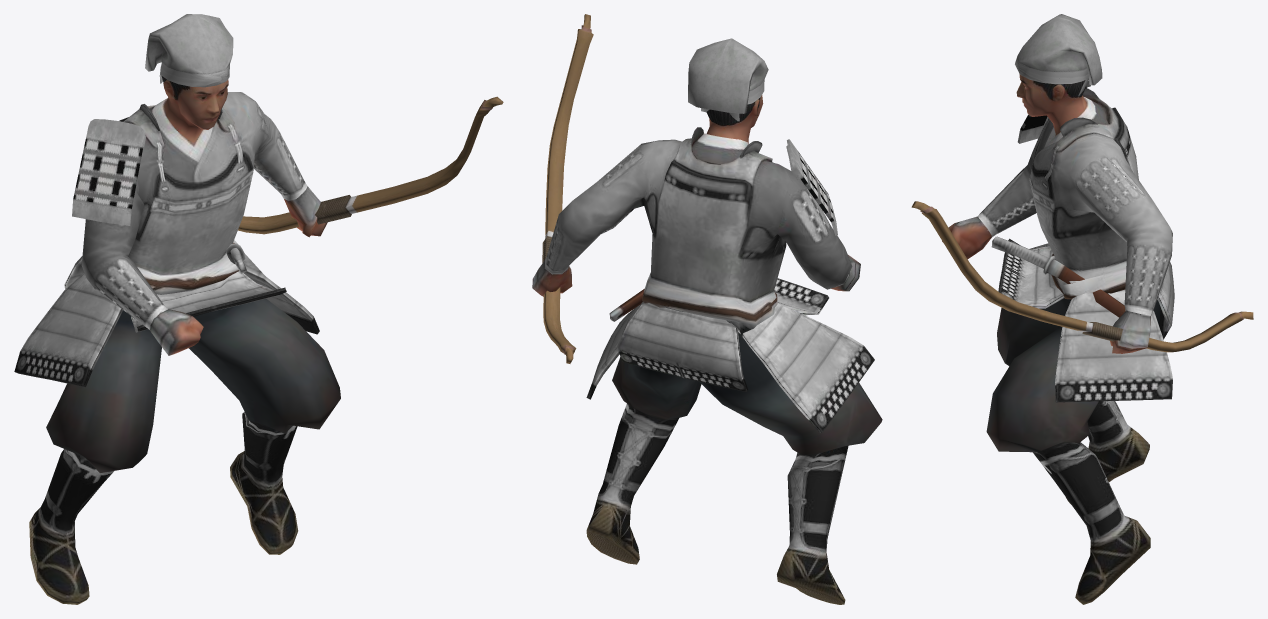
The model's file is rider-heavystablesoldiers.glb.
The picture shows the model from 3 angles, left to right: view 1: azimuth 30°, elevation 25°; view 2: azimuth 150°, elevation 25°; view 3: azimuth 270°, elevation 25°; orthographic projection. The views are drawn at different scales.
Size of the model in its own units: 1.4 by 2.04 by 1.17.
4 materials, 4 textured.
